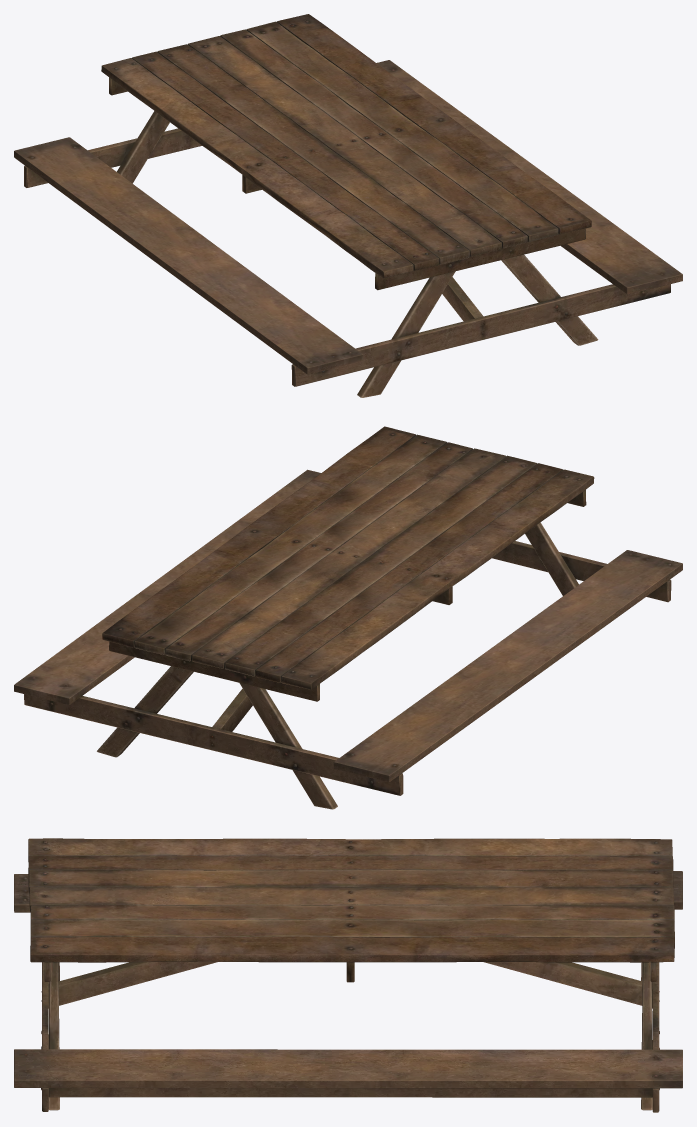
The model's file is ph_picnic_table.glb.
3 renders of one model, top to bottom at view 1: azimuth 30°, elevation 25°; view 2: azimuth 150°, elevation 25°; view 3: azimuth 270°, elevation 25°, orthographic. The views are drawn at different scales.
Parts seen in each view (by area): view 1: wooden_picnic_table; view 2: wooden_picnic_table; view 3: wooden_picnic_table.
Boxes of the visible parts, box(x1,y1,x2,y2) form: wooden_picnic_table: box(14, 14, 682, 397); wooden_picnic_table: box(14, 426, 682, 809); wooden_picnic_table: box(14, 838, 682, 1112).
Size of the model in its own units: 2.24 by 0.746 by 3.02.
Materials: 2 (2 with a texture image).
